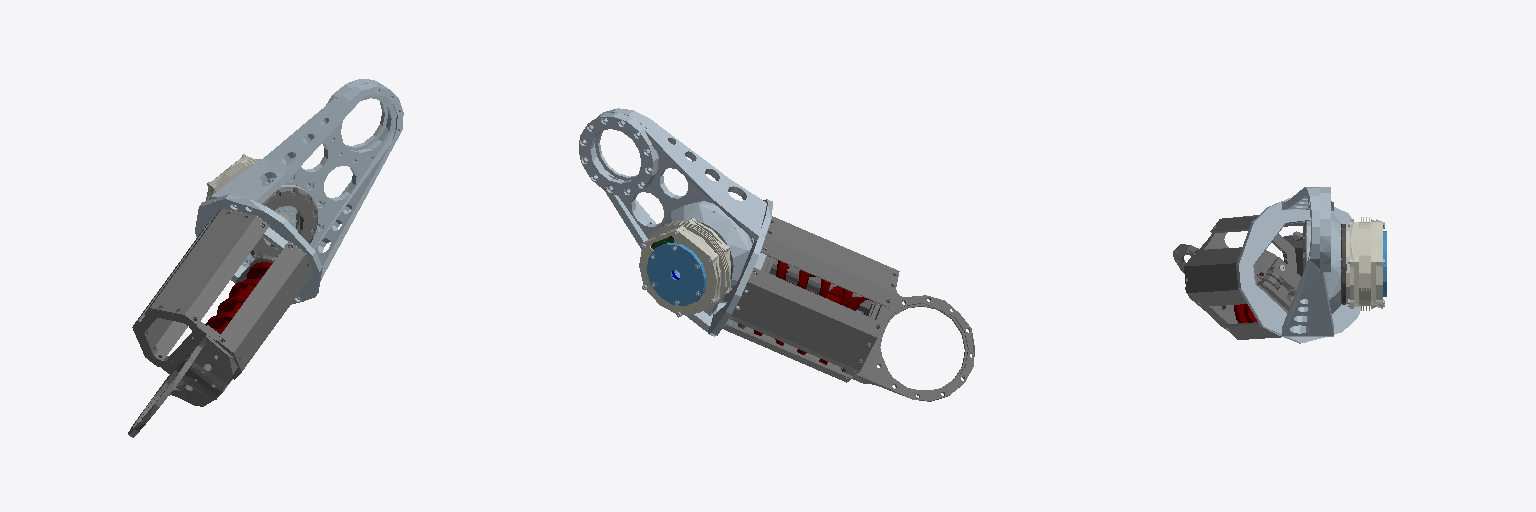
3 renders of one model, left to right at view 1: azimuth 30°, elevation 25°; view 2: azimuth 150°, elevation 25°; view 3: azimuth 270°, elevation 25°, orthographic.
Bounding box in the file's own units: 0.3942 × 0.2916 × 0.2243.
1 materials, 1 textured.